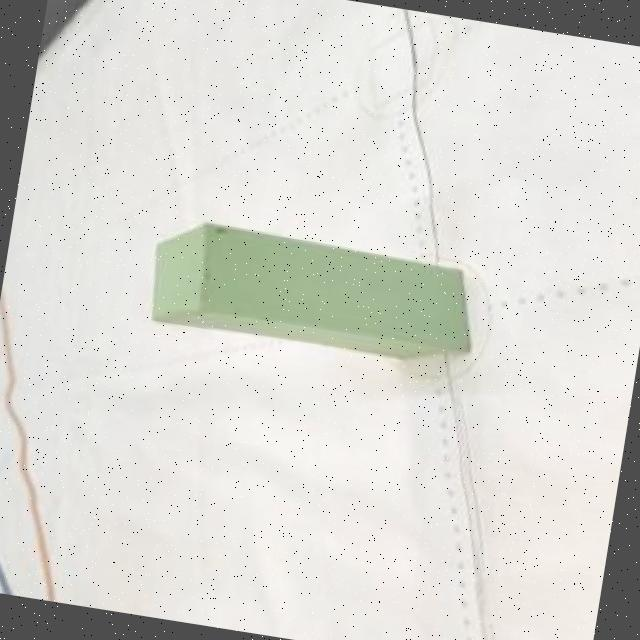greenbox: (134, 214, 486, 377)
